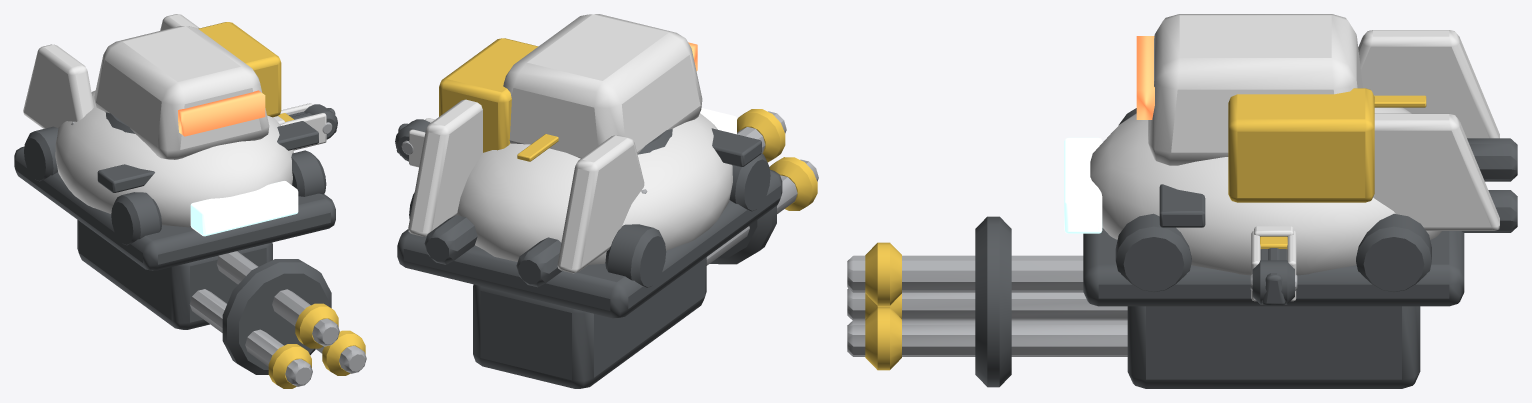
The model's file is burst.glb.
3 renders of one model, left to right at view 1: azimuth 30°, elevation 25°; view 2: azimuth 150°, elevation 25°; view 3: azimuth 270°, elevation 25°, orthographic. The views are drawn at different scales.
Parts seen in each view (by area): view 1: Hull, Barrel, Turret, LegUpper; view 2: Hull, Turret, Barrel, LegUpper; view 3: Hull, Barrel, Turret, LegUpper, LegLower.
Part boxes in pixels (x1=…): Hull: x1=14, y1=14, x2=335, y2=270; Barrel: x1=77, y1=220, x2=366, y2=388; Turret: x1=94, y1=22, x2=281, y2=159; LegUpper: x1=273, y1=103, x2=337, y2=150; Hull: x1=397, y1=99, x2=782, y2=318; Turret: x1=439, y1=14, x2=702, y2=158; Barrel: x1=473, y1=109, x2=818, y2=388; LegUpper: x1=395, y1=118, x2=434, y2=167; Hull: x1=1064, y1=30, x2=1517, y2=306; Barrel: x1=847, y1=216, x2=1420, y2=388; Turret: x1=1136, y1=14, x2=1374, y2=202; LegUpper: x1=1250, y1=226, x2=1297, y2=304; LegLower: x1=1260, y1=236, x2=1287, y2=305.
Size of the model in its own units: 0.545 by 0.496 by 0.88.
